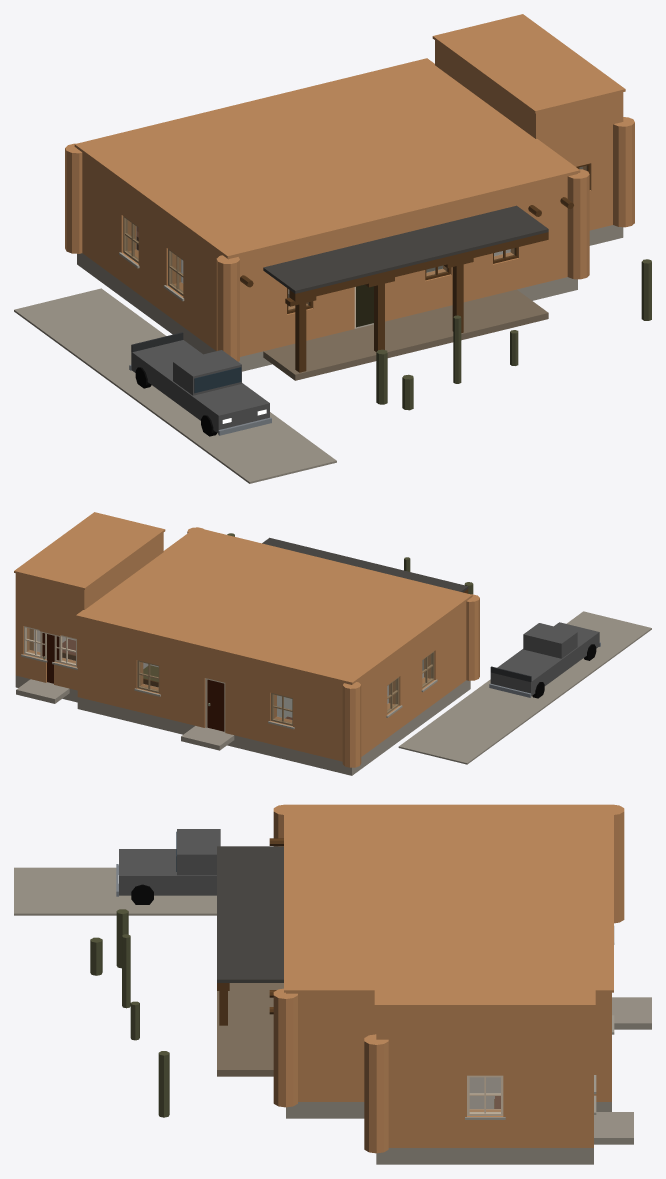
File: adobe.glb
The picture shows the model from 3 angles, top to bottom: view 1: azimuth 30°, elevation 25°; view 2: azimuth 150°, elevation 25°; view 3: azimuth 270°, elevation 25°; orthographic projection. The views are drawn at different scales.
Visible parts, largest first — view 1: LOD0, LEAF0; view 2: LOD0, LEAF1, LEAF2, FURN; view 3: LOD0.
Boxes of the visible parts, x1,y1,x2,y2 form: LOD0: (14,14,651,483); LEAF0: (356,284,373,327); LOD0: (14,512,651,775); LEAF1: (207,679,224,731); LEAF2: (42,633,59,683); FURN: (62,639,292,719); LOD0: (14,804,651,1164).
Size of what is drawn, in the model's own units: 18.95 by 4.88 by 17.6.
